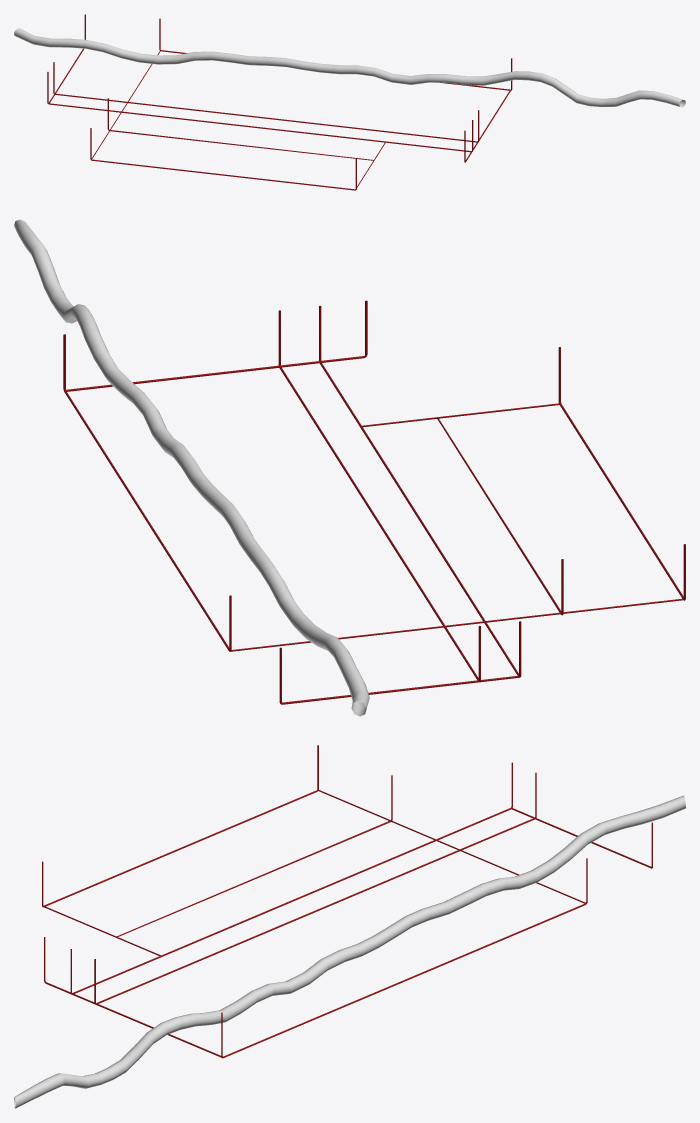
File: SM_H_Building_Tide_Laundryroom_04B_ATLAS.fbx
3 renders of one model, top to bottom at view 1: azimuth 30°, elevation 25°; view 2: azimuth 150°, elevation 25°; view 3: azimuth 270°, elevation 25°, orthographic. The views are drawn at different scales.
Parts seen in each view (by area): view 1: SM_H_Building_Tide_Laundryroom_04B_ATLAS; view 2: SM_H_Building_Tide_Laundryroom_04B_ATLAS; view 3: SM_H_Building_Tide_Laundryroom_04B_ATLAS.
Boxes of the visible parts, left/top/right/bottom form: SM_H_Building_Tide_Laundryroom_04B_ATLAS: left=14, top=14, right=685, bottom=190; SM_H_Building_Tide_Laundryroom_04B_ATLAS: left=14, top=219, right=685, bottom=716; SM_H_Building_Tide_Laundryroom_04B_ATLAS: left=14, top=745, right=685, bottom=1108.
Bounding box in the file's own units: 3749 × 3147 × 239.
